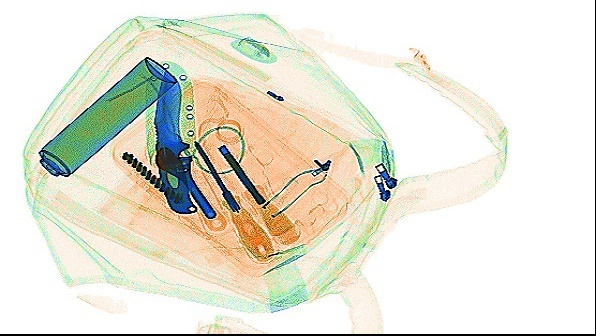knife: (143, 57, 198, 216)
pressure: (29, 56, 178, 183)
